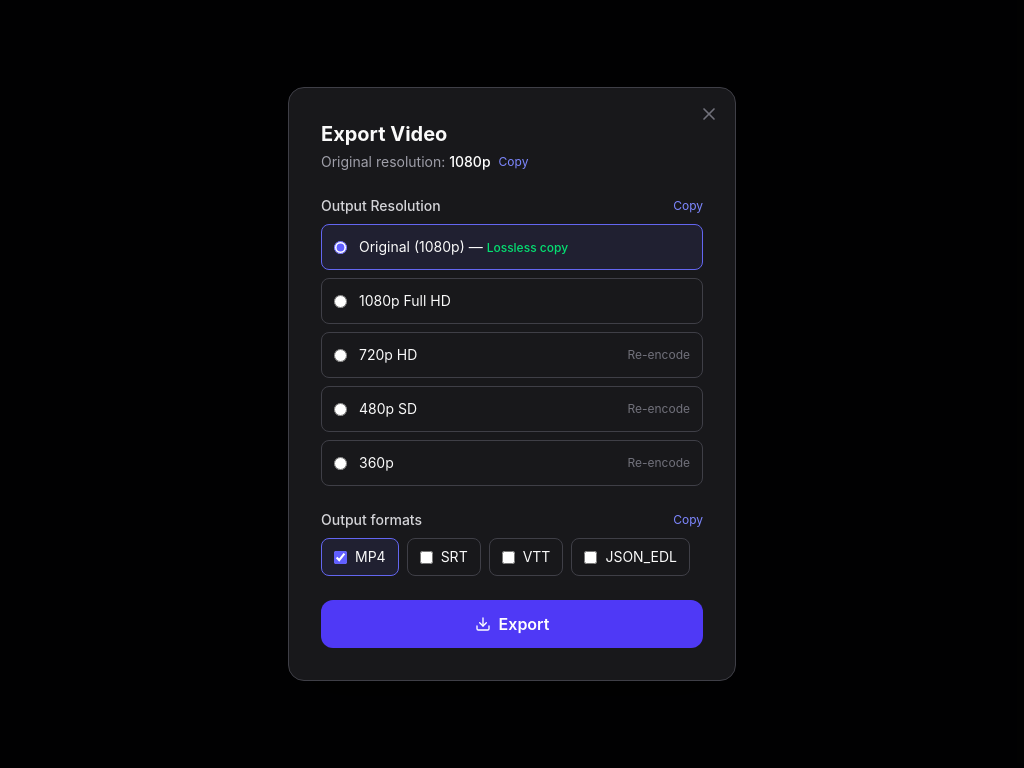
Scenario: ExportModal › exports the selected downscale mapping
Click the text "720p HD". click: (388, 355)
box: left=359, top=345, right=417, bottom=365
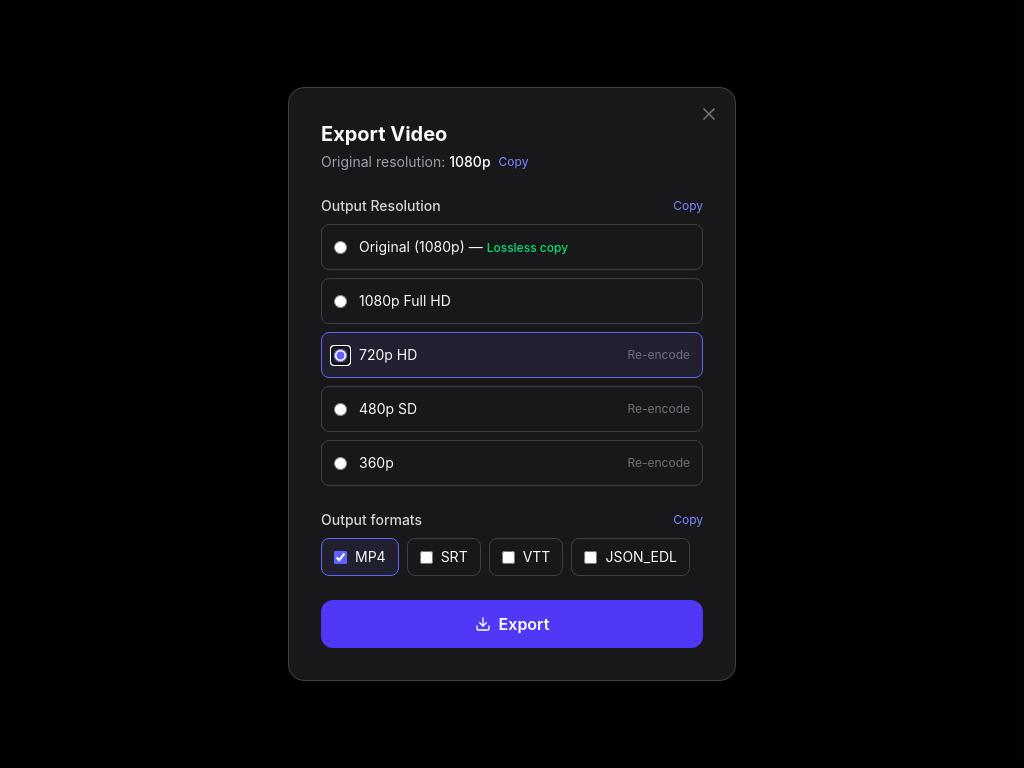
Click the button "Export". click: (512, 624)
box: left=321, top=600, right=703, bottom=648
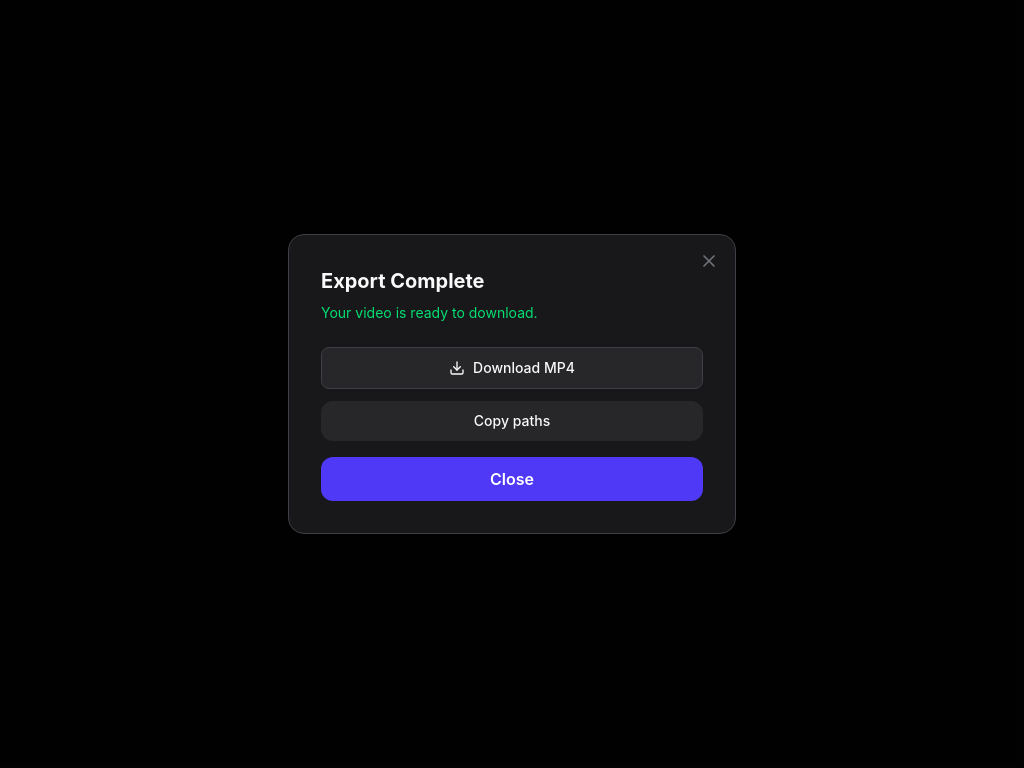
Result: the heading "Export Complete" is shown at left=321, top=269, right=484, bottom=293
Result: the button "Copy paths" is shown at left=321, top=401, right=703, bottom=441
